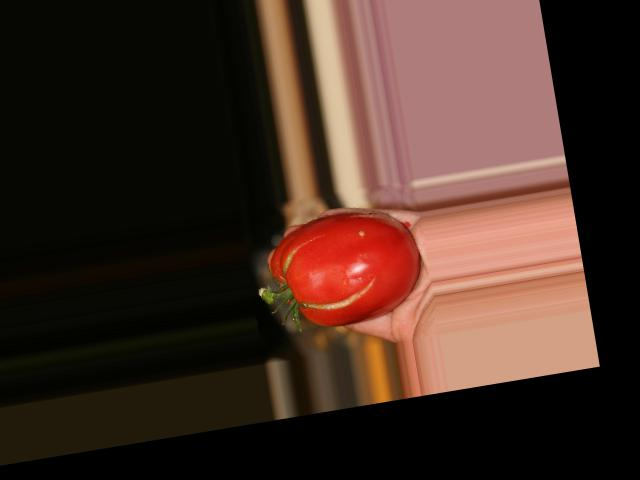tomato: (263, 201, 428, 333)
